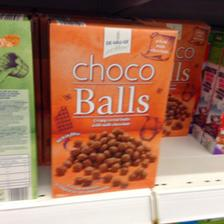Cerealien: (50, 13, 178, 197)
